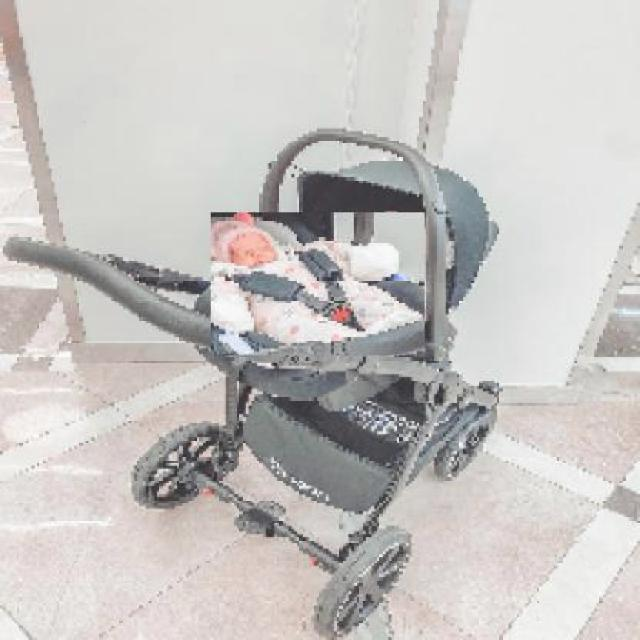child: (208, 212, 426, 357)
